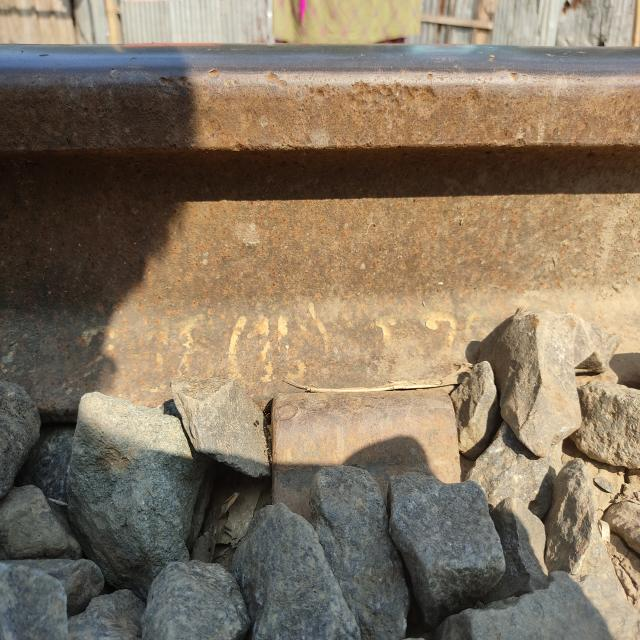fault: (266, 366, 466, 524)
